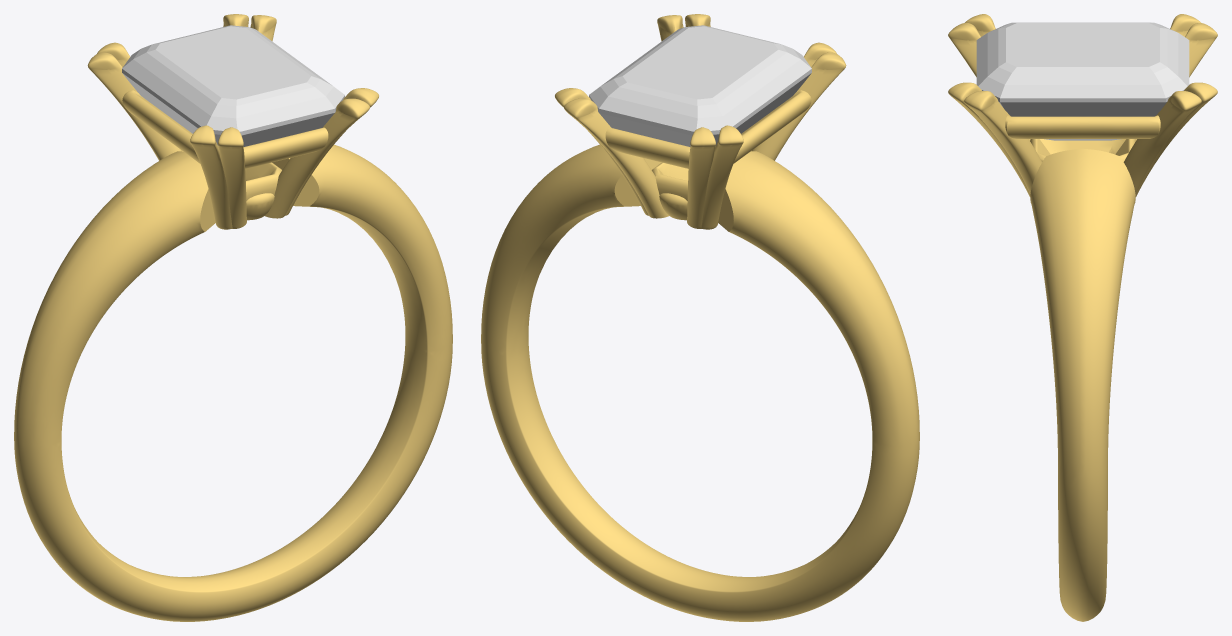
File: CamEMeng_blender.glb
3 renders of one model, left to right at view 1: azimuth 30°, elevation 25°; view 2: azimuth 150°, elevation 25°; view 3: azimuth 270°, elevation 25°, orthographic.
Visible parts, largest first — view 1: v2 Cam YG for 3d model, Cam em dia for 3d model; view 2: v2 Cam YG for 3d model, Cam em dia for 3d model; view 3: v2 Cam YG for 3d model, Cam em dia for 3d model.
Part boxes in pixels (<box>): v2 Cam YG for 3d model: <box>14,14,452,621</box>; Cam em dia for 3d model: <box>122,25,344,146</box>; v2 Cam YG for 3d model: <box>481,14,919,621</box>; Cam em dia for 3d model: <box>589,25,811,146</box>; v2 Cam YG for 3d model: <box>948,14,1217,621</box>; Cam em dia for 3d model: <box>976,22,1189,140</box>.
Bounding box in the file's own units: 20.1 × 24.44 × 10.8.
